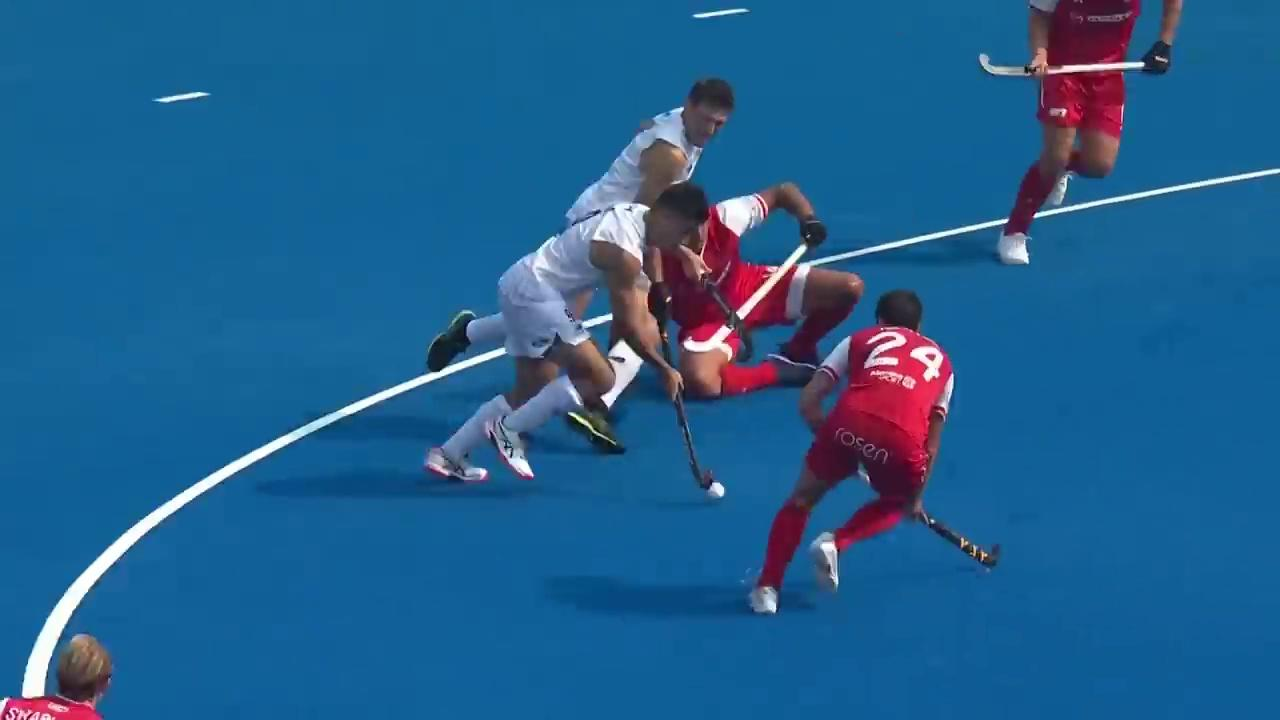ball: (690, 461, 738, 506)
